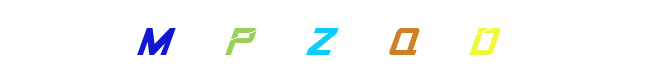D: (364, 0, 444, 80)
M: (116, 0, 196, 80)
P: (275, 0, 355, 80)
Q: (335, 0, 415, 80)
Z: (288, 0, 368, 80)
